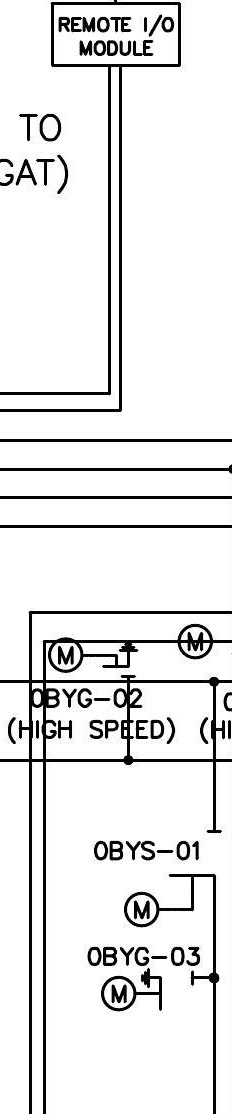115_1way_ds_w_motor: (123, 830, 223, 928)
115_gs_w_motor: (100, 967, 194, 1012), (47, 636, 140, 678)
remote_io_module: (50, 2, 181, 67)
